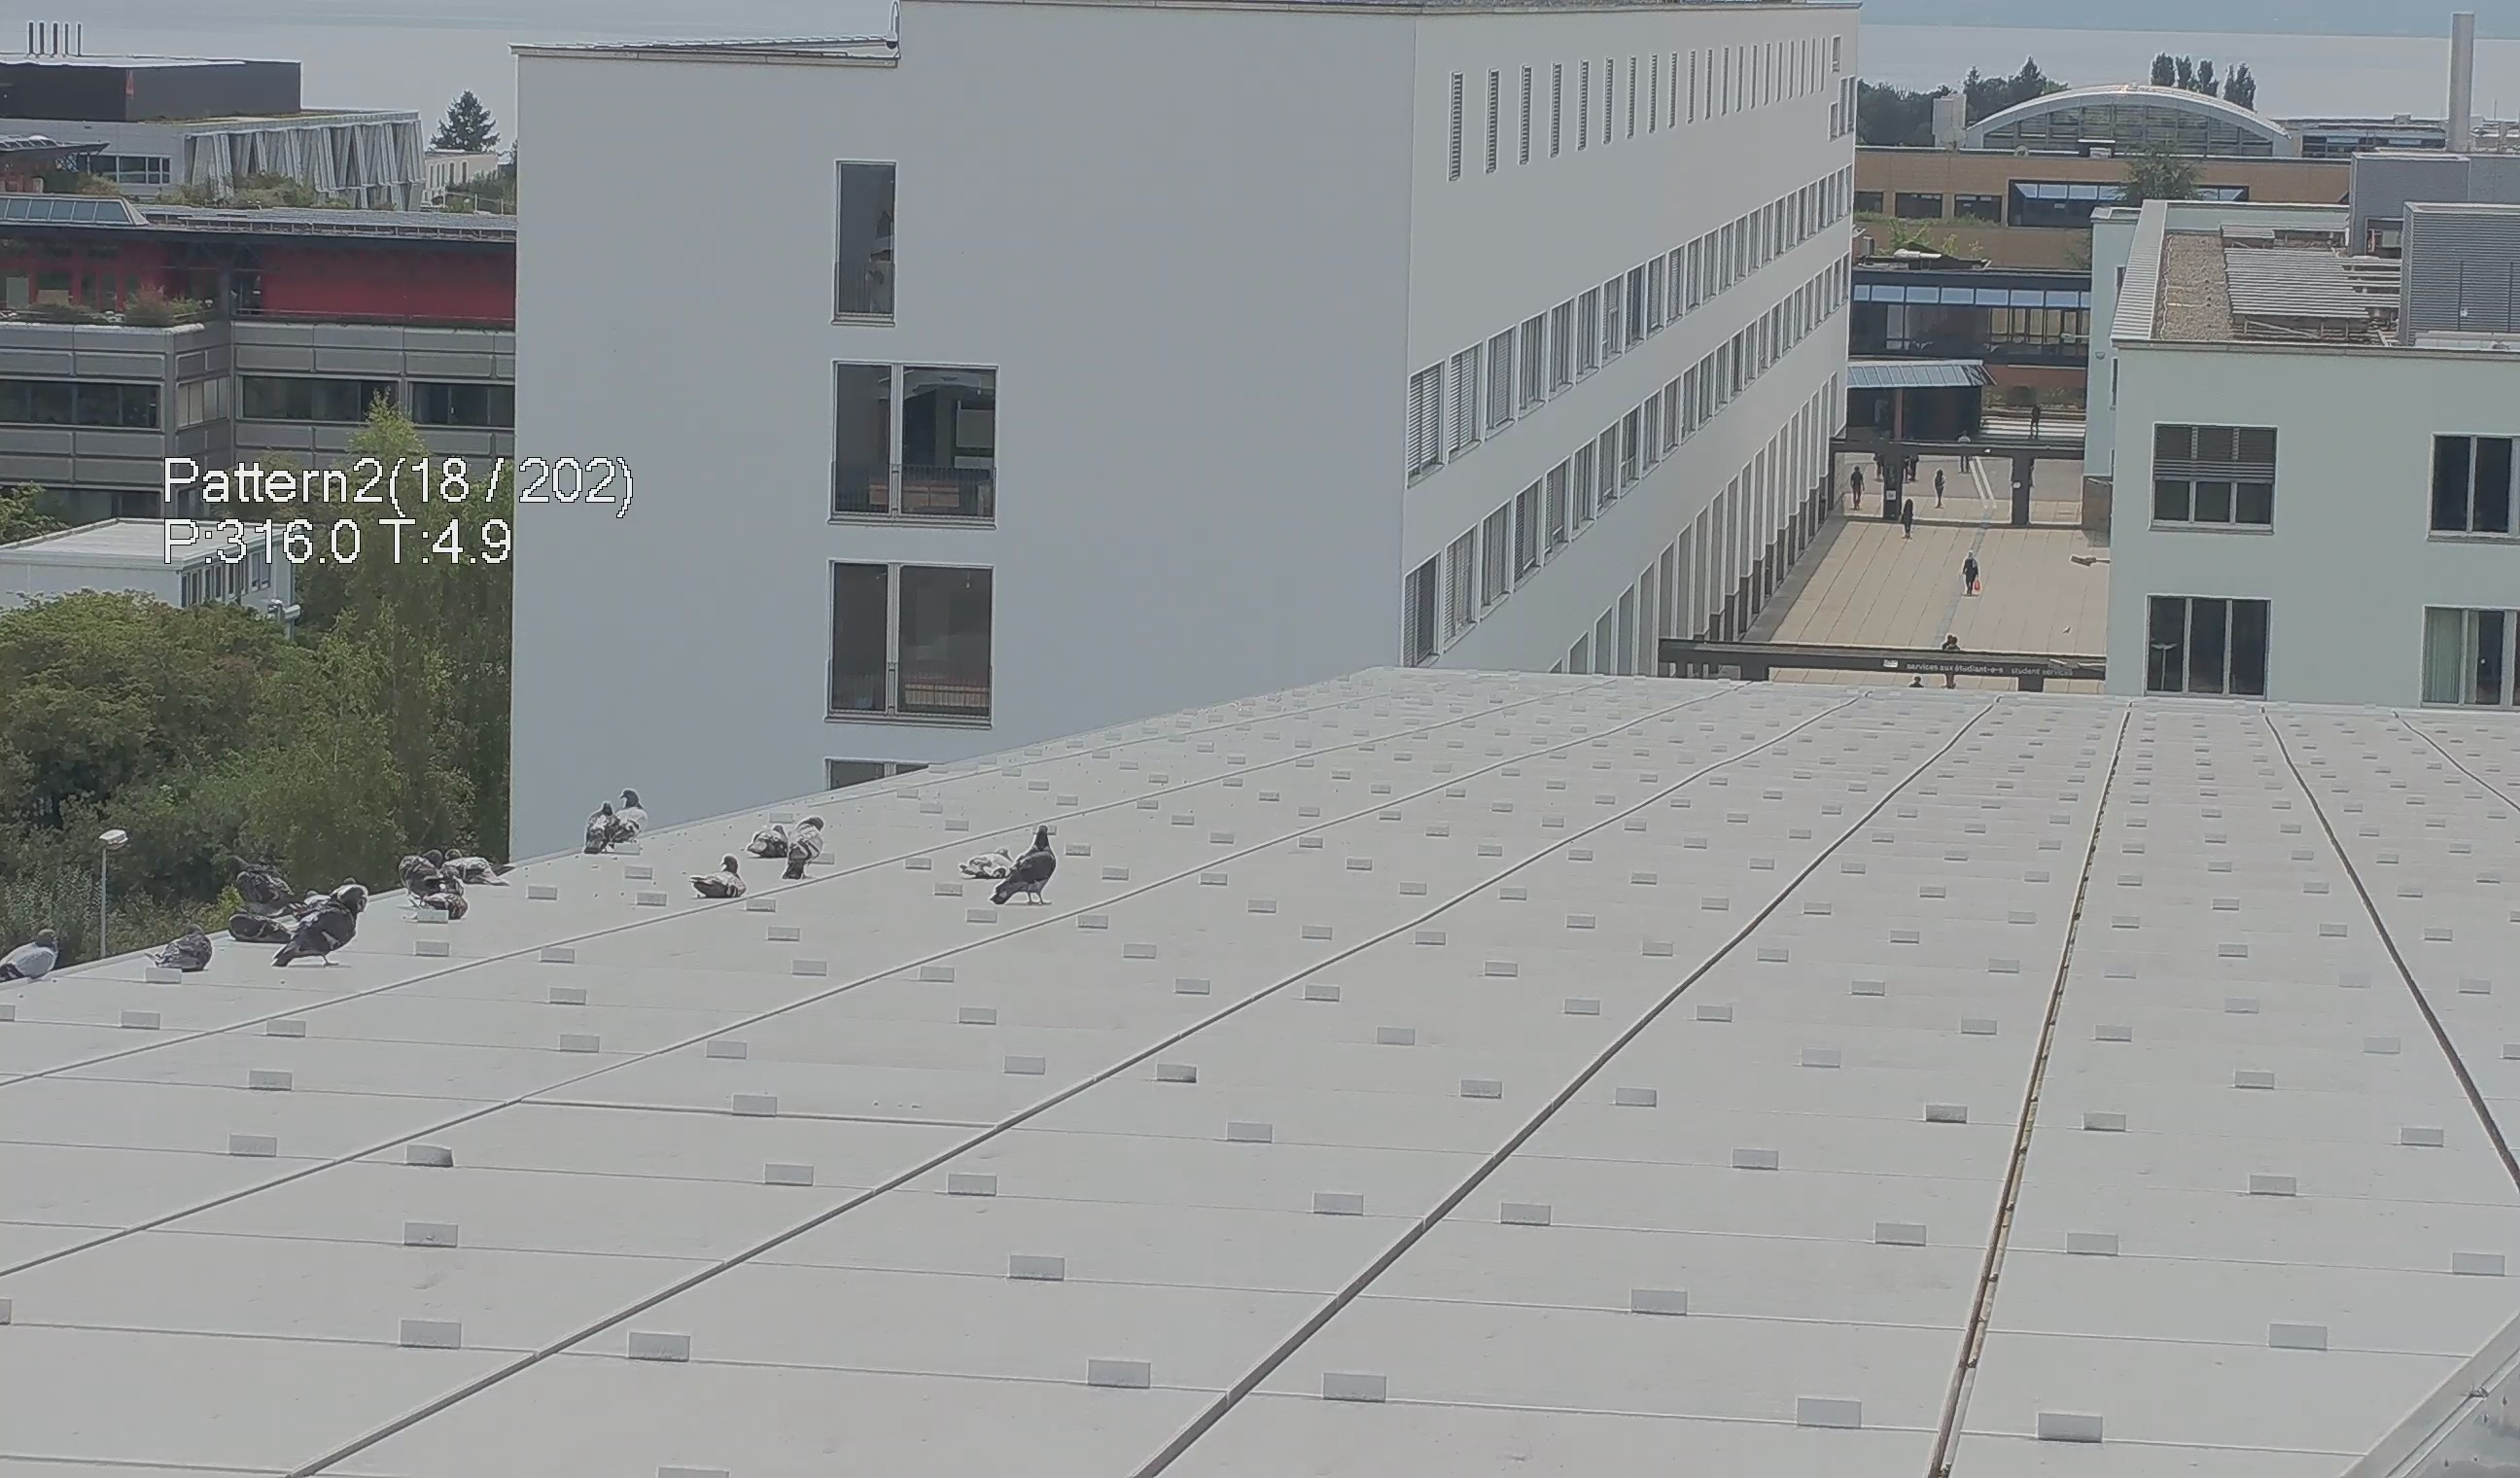Pigeon: (273, 874, 375, 984), (981, 822, 1060, 920), (392, 853, 462, 920), (135, 924, 216, 980), (225, 860, 301, 911), (2, 926, 65, 985), (686, 846, 751, 903), (788, 815, 837, 883), (447, 850, 519, 892), (216, 908, 297, 943), (958, 848, 1015, 885), (586, 799, 619, 855), (617, 790, 651, 846), (746, 820, 786, 860)
